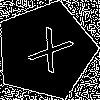X: (20, 26, 75, 83)
